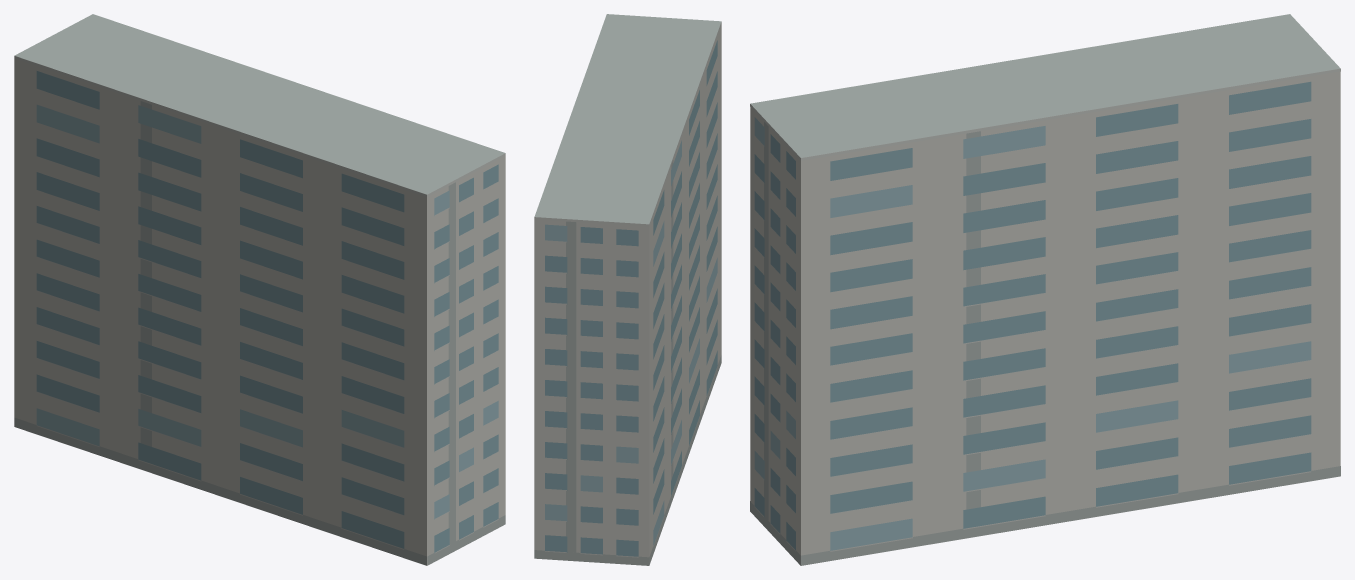
File: residential-4394386a-2ea7-4aea-b2c6-2c11e818672a.glb
The picture shows the model from 3 angles, left to right: view 1: azimuth 30°, elevation 25°; view 2: azimuth 150°, elevation 25°; view 3: azimuth 270°, elevation 25°; orthographic projection. The views are drawn at different scales.
Visible parts, largest first — view 1: residential-4394386a-2ea7-4aea-b2c6-2c11e818672a.tmp; view 2: residential-4394386a-2ea7-4aea-b2c6-2c11e818672a.tmp; view 3: residential-4394386a-2ea7-4aea-b2c6-2c11e818672a.tmp.
Part boxes in pixels (bbox=[...]): residential-4394386a-2ea7-4aea-b2c6-2c11e818672a.tmp: bbox=[14, 14, 505, 565]; residential-4394386a-2ea7-4aea-b2c6-2c11e818672a.tmp: bbox=[534, 14, 721, 565]; residential-4394386a-2ea7-4aea-b2c6-2c11e818672a.tmp: bbox=[750, 14, 1340, 565].
Size of the model in its own units: 25.78 by 34 by 44.64.
